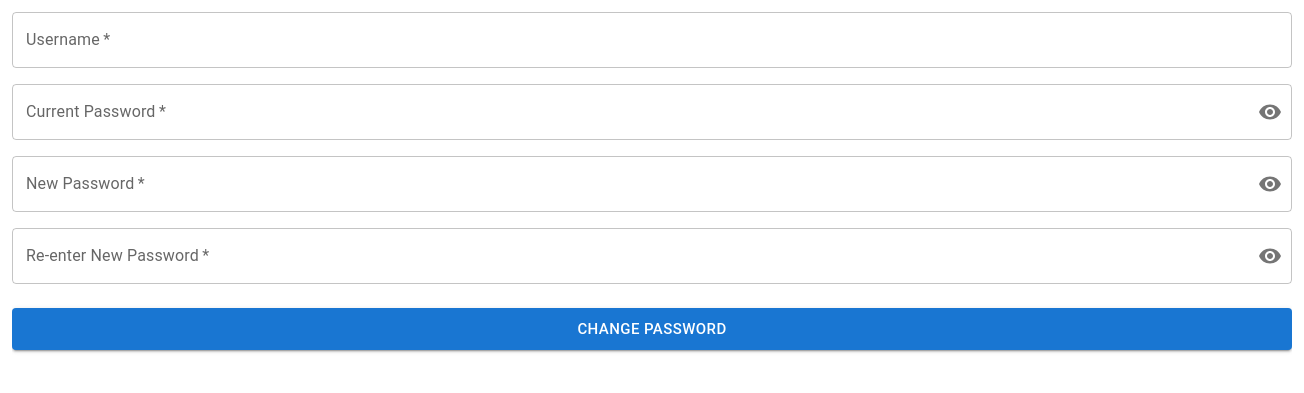
Test: PasswordForm › surfaces InvalidCredentials error on CurrentPassword field
Type "jdoe" into the field labelled "Username *".
click(652, 40); type("jdoe")  # box [12,12,1292,68]
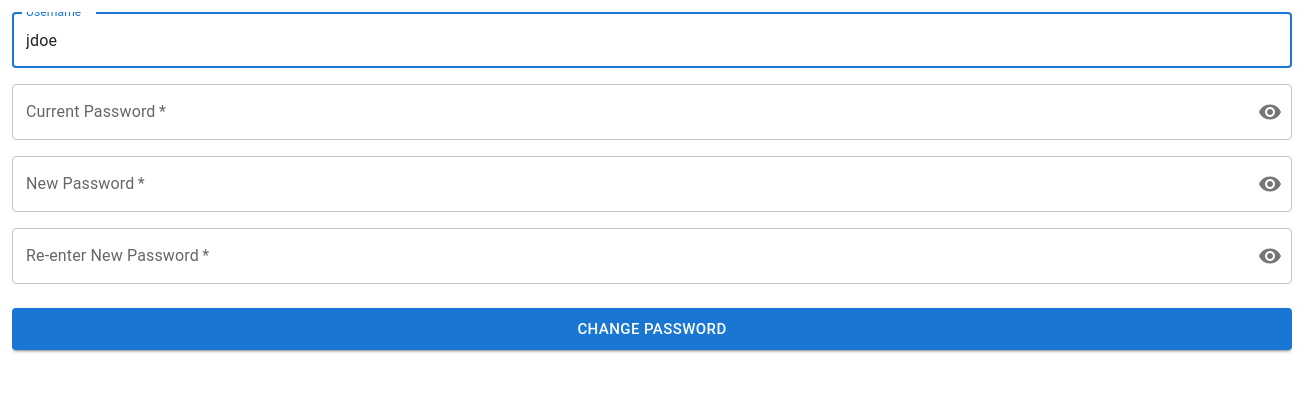
Type "wrong" into the password field labelled "Current Password *".
click(627, 112); type("wrong")  # box [12,84,1242,140]
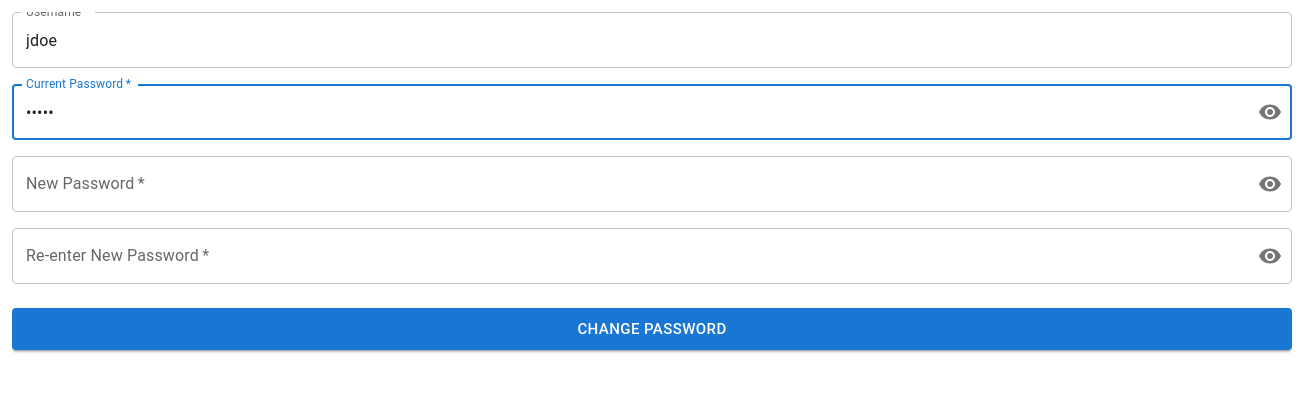
Type "NewPass1!" into the password field labelled "New Password *".
click(627, 184); type("NewPass1!")  # box [12,156,1242,212]
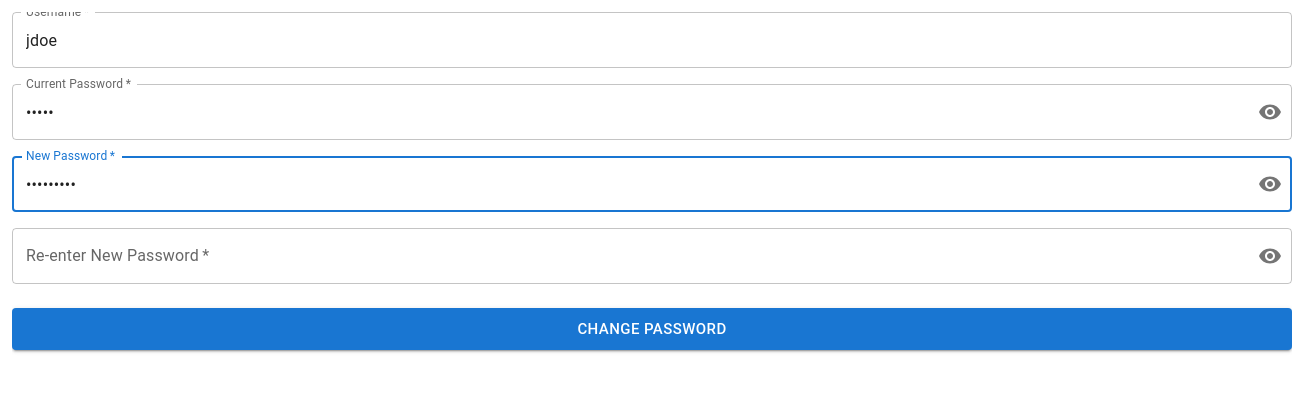
Type "NewPass1!" into the password field labelled "Re-enter New Password *".
click(627, 256); type("NewPass1!")  # box [12,228,1242,284]
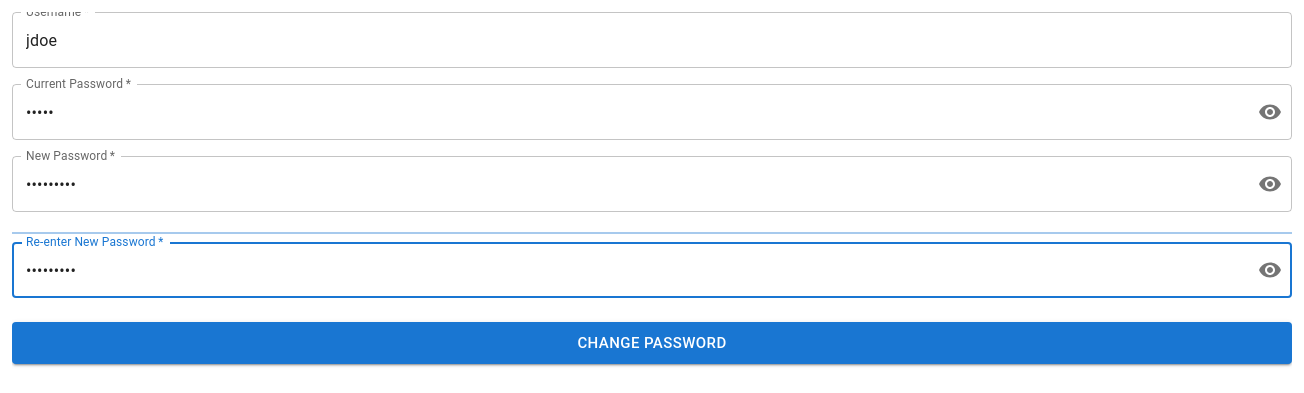
Click the button "Change Password".
click(652, 343)  # box [12,322,1292,364]
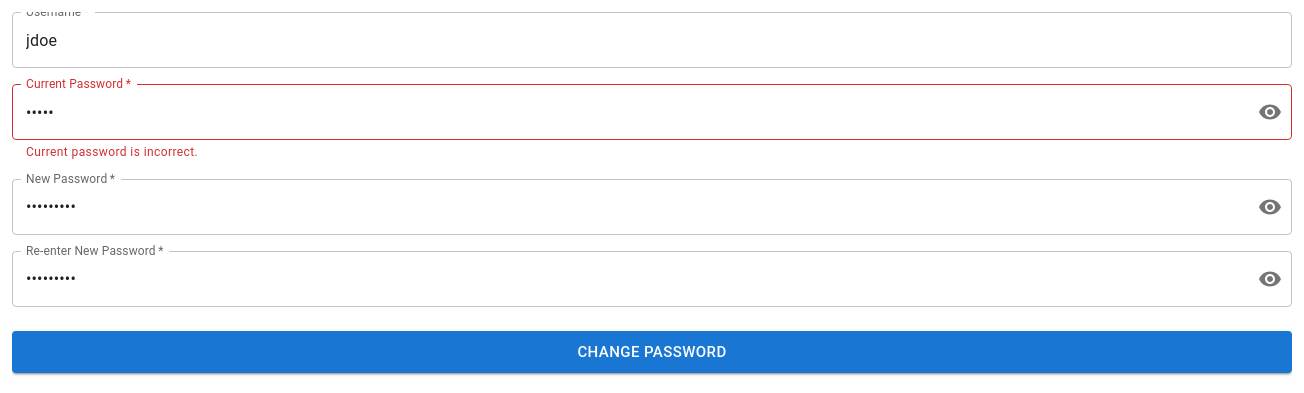
Now the text "Current password is incorrect." is shown, box [26,145,198,159]
